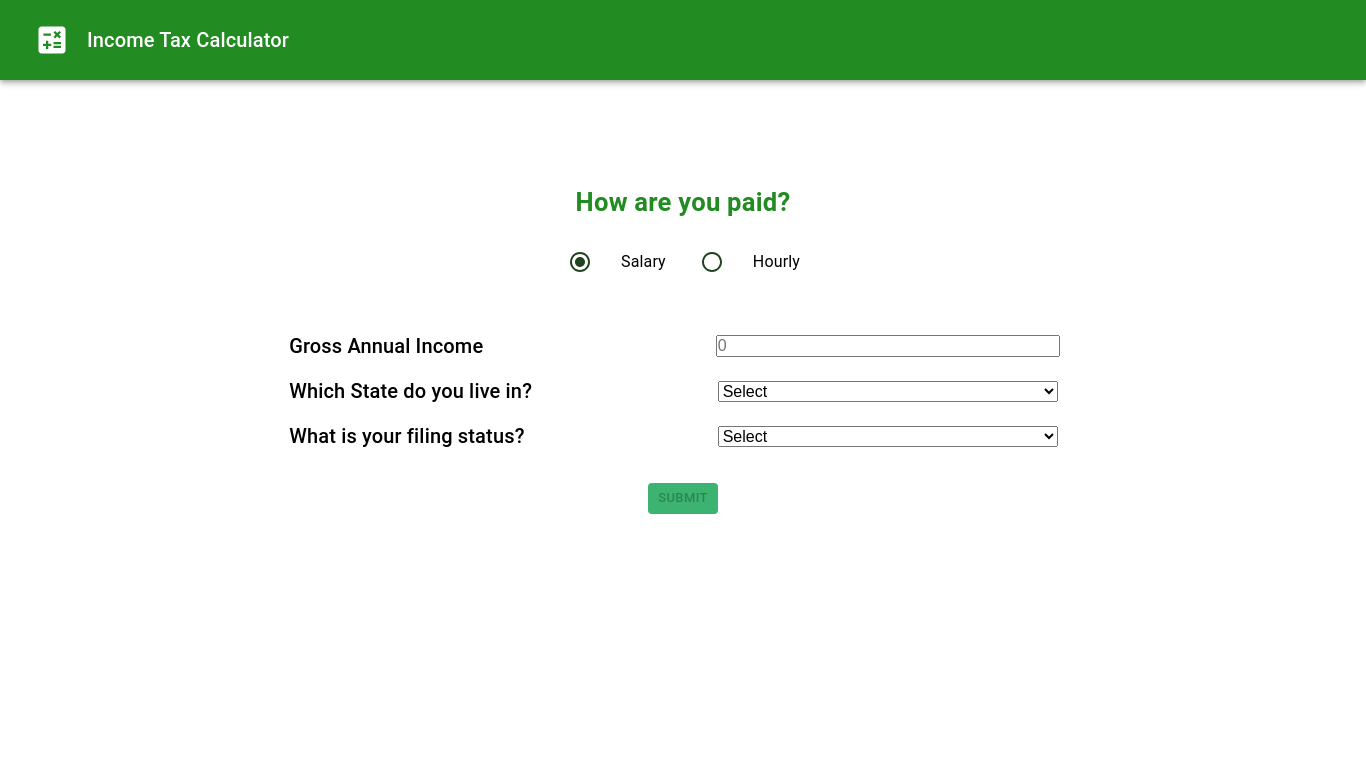
load app › App loads data correctly - salary - no state income tax result
The width and height of the screenshot is (1366, 768).
Expected: the element with test id "input-form" is shown, [289,187,1060,514]
Type "100000" into the field named "grossAnnualIncome" at (888, 346), box [716,335,1060,357]
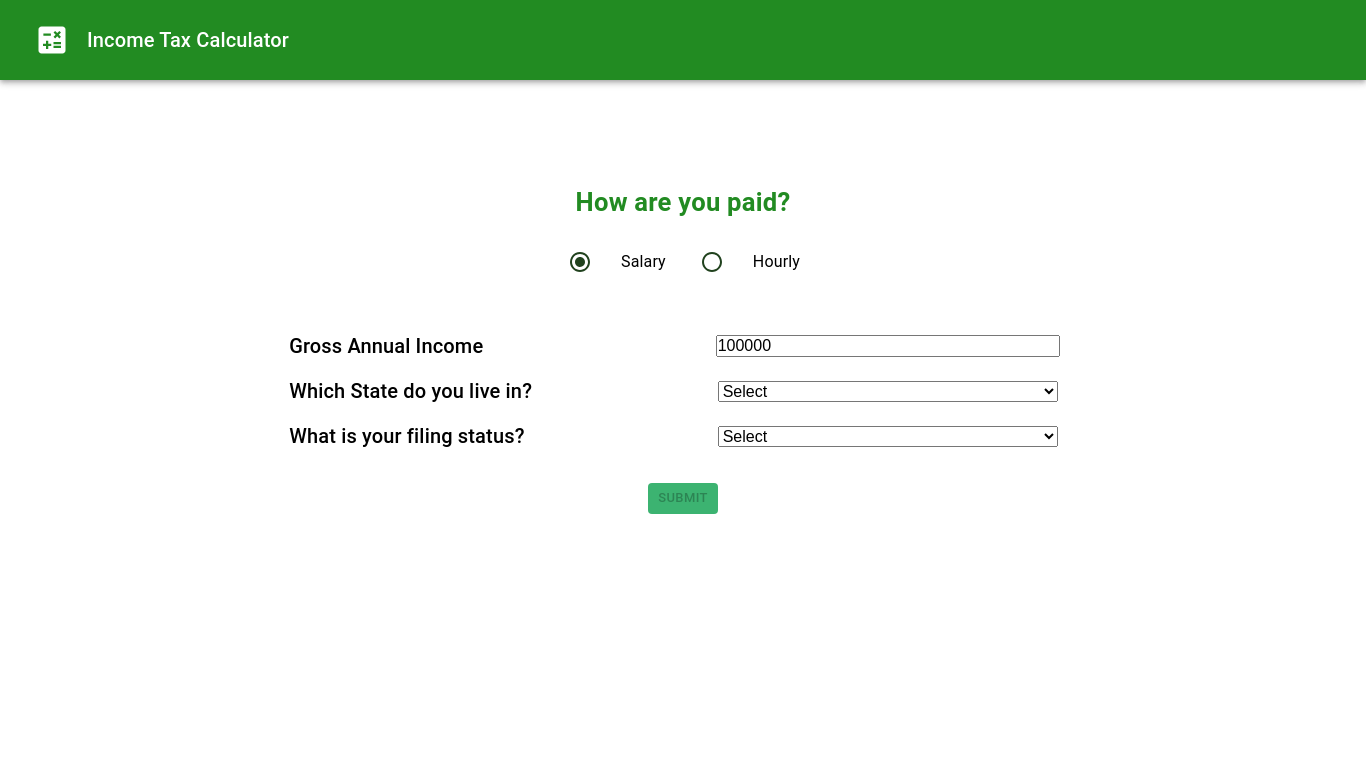
Select "Washington" in the dropdown with test id "stateSelect" at (888, 391), box [718,381,1058,402]
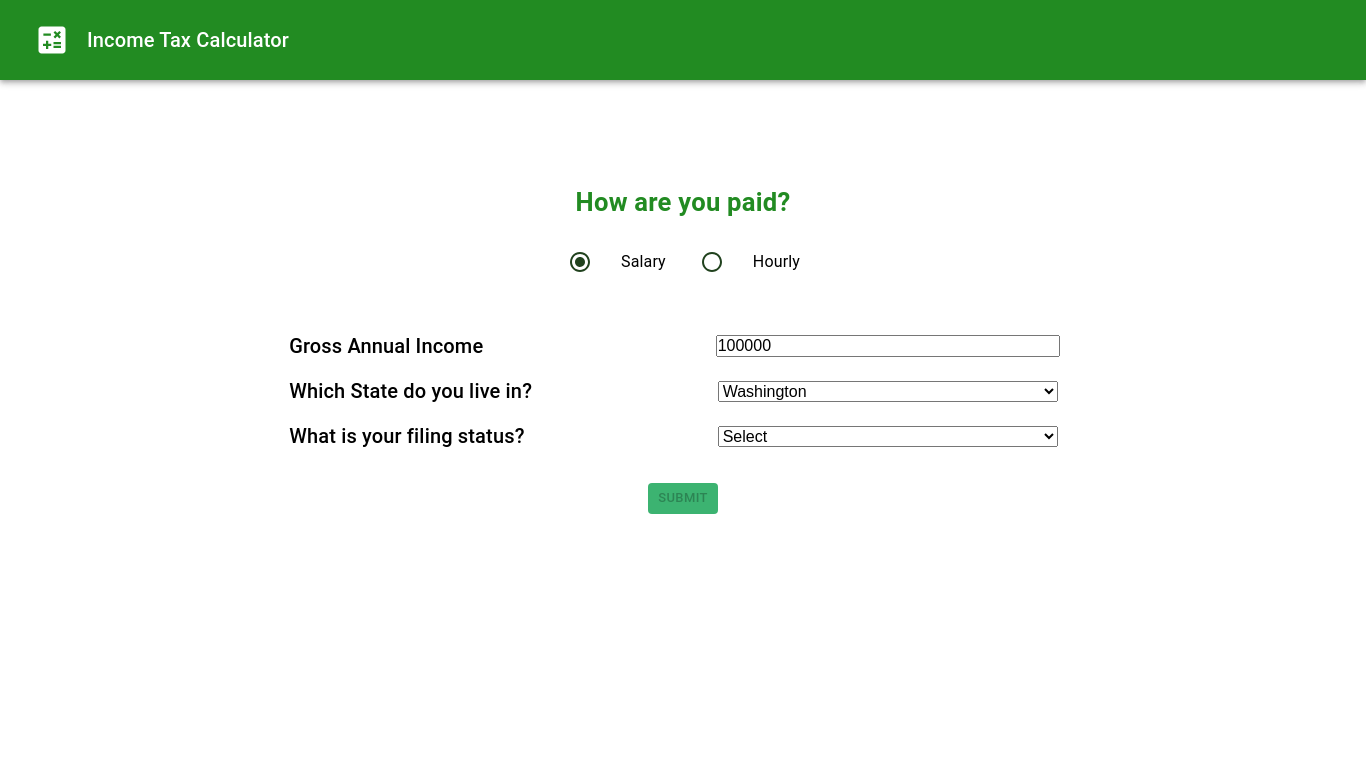
Select "Single" in the dropdown with test id "maritalStatusSelect" at (888, 436), box [718,426,1058,447]
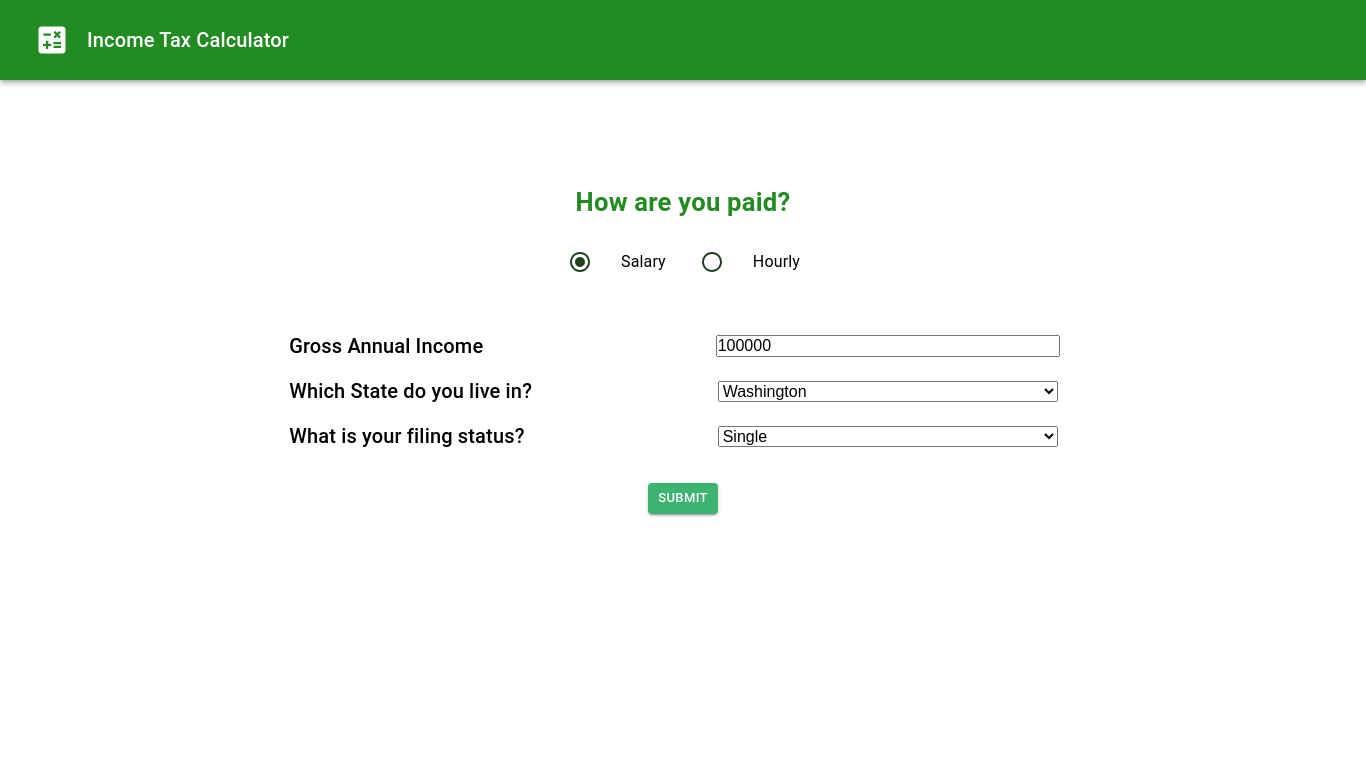
Expected: the button "Submit" is enabled
Click the button "Submit" at (683, 498), box [648,483,718,514]
(page scrolled)
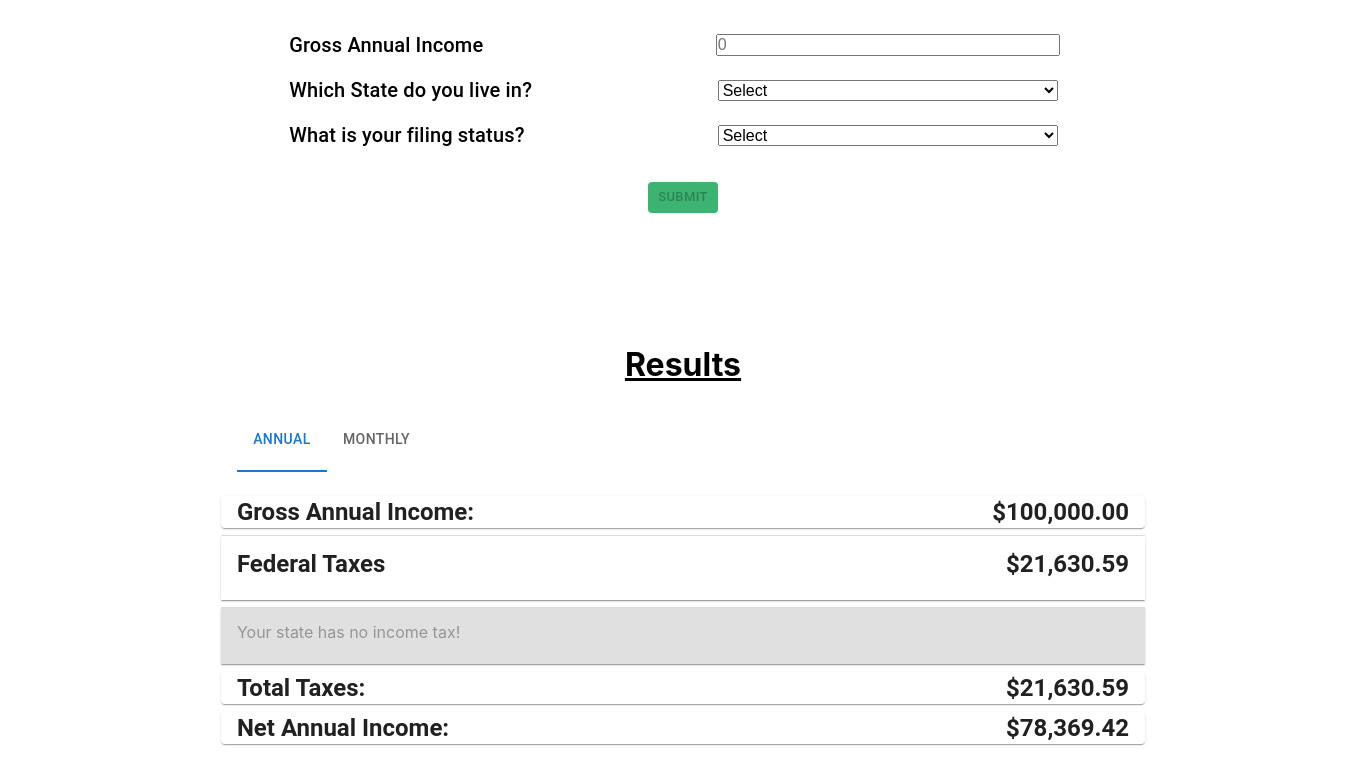
Expected: the element with test id "result-data" is shown, [205,344,1161,760]
